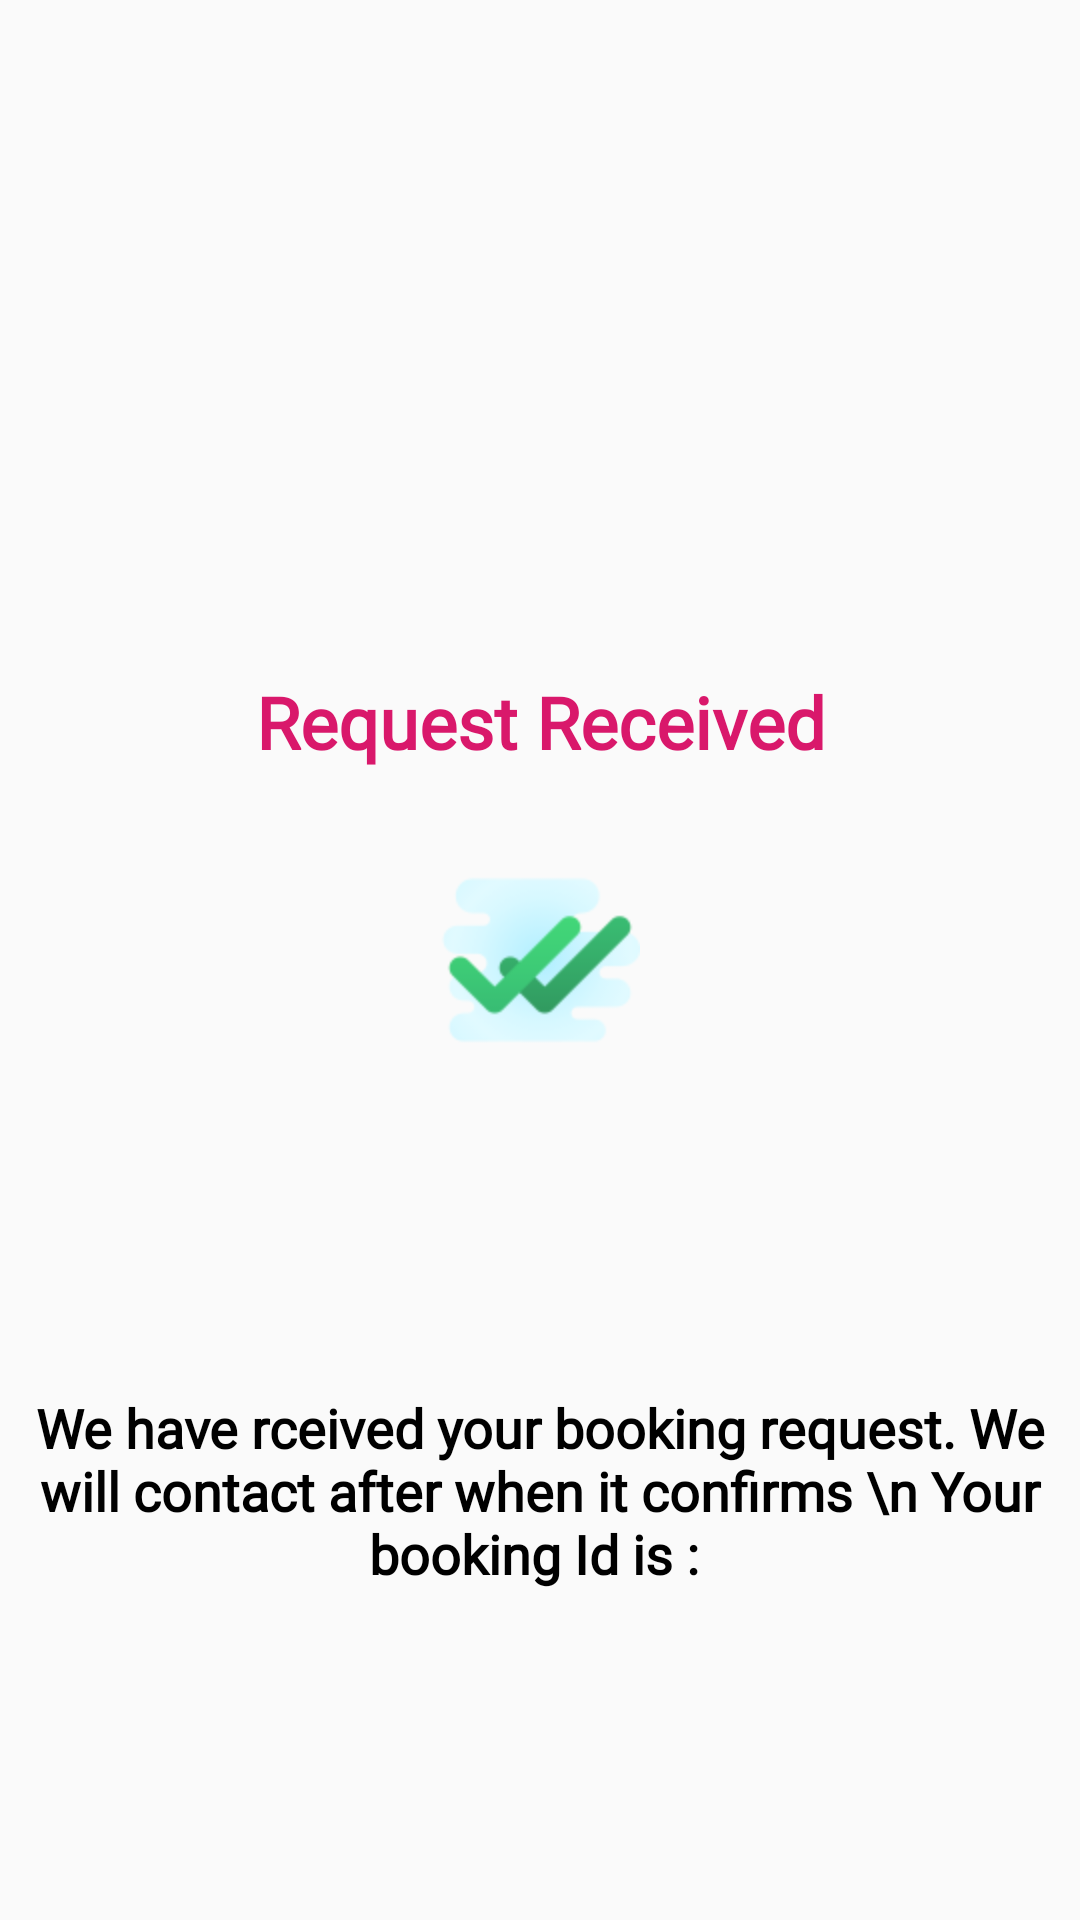

Point at icon controls on the screen. Image size 1080px x 1920px, points as (x=x, y=y).
doubletick: (x=542, y=960)
